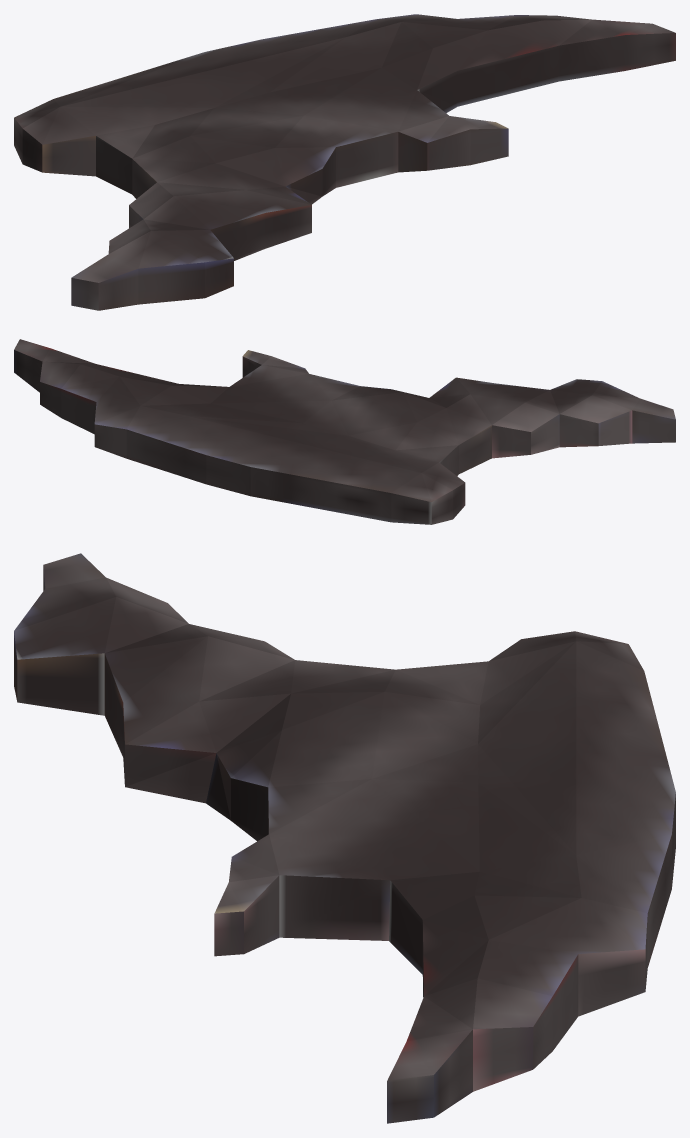
File: BatWing.fbx
3 renders of one model, top to bottom at view 1: azimuth 30°, elevation 25°; view 2: azimuth 150°, elevation 25°; view 3: azimuth 270°, elevation 25°, orthographic. The views are drawn at different scales.
Visible parts, largest first — view 1: bat_wing; view 2: bat_wing; view 3: bat_wing.
Boxes of the visible parts, x1,y1,x2,y2 form: bat_wing: (14, 14, 675, 310); bat_wing: (14, 339, 675, 524); bat_wing: (14, 553, 675, 1123).
Bounding box in the file's own units: 0.5807 × 0.0474 × 0.3079.
